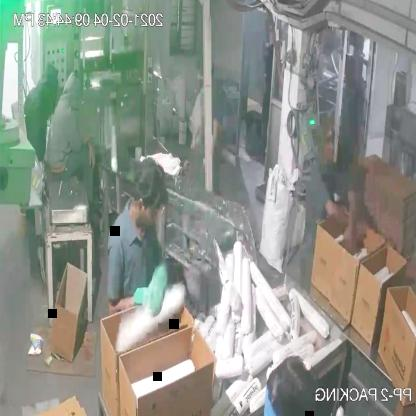glove: (141, 255, 172, 323)
no_glove: (317, 187, 359, 250), (202, 108, 226, 173), (80, 137, 102, 173)
